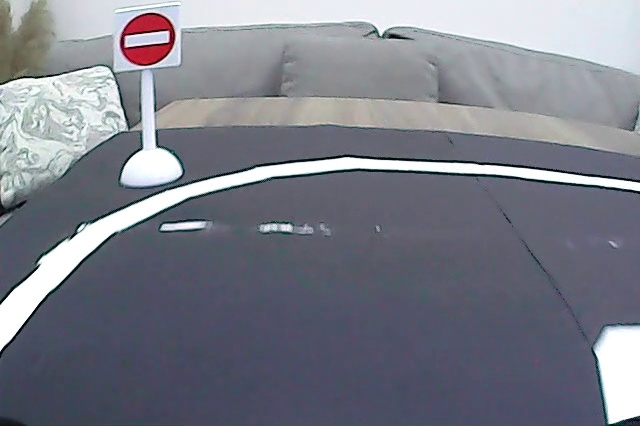do not enter: (118, 9, 179, 67)
